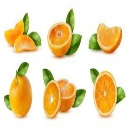orange: (10, 67, 33, 116)
